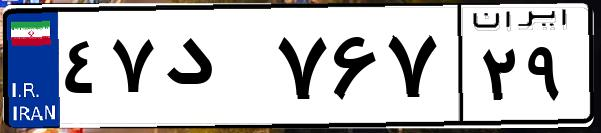2: (475, 38, 525, 113)
4: (57, 26, 110, 100)
6: (330, 28, 385, 110)
7: (270, 28, 330, 110), (385, 28, 445, 110), (110, 28, 158, 98)
9: (525, 38, 570, 115)
د: (158, 20, 270, 120)
